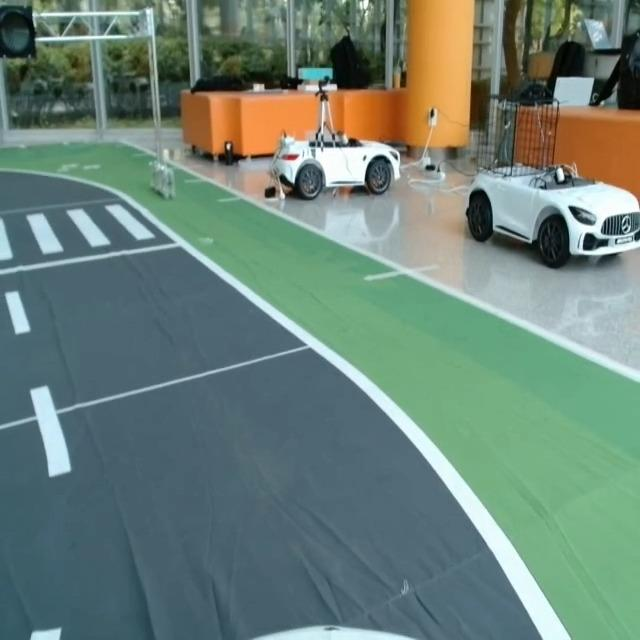traffic-light: (0, 2, 45, 65)
